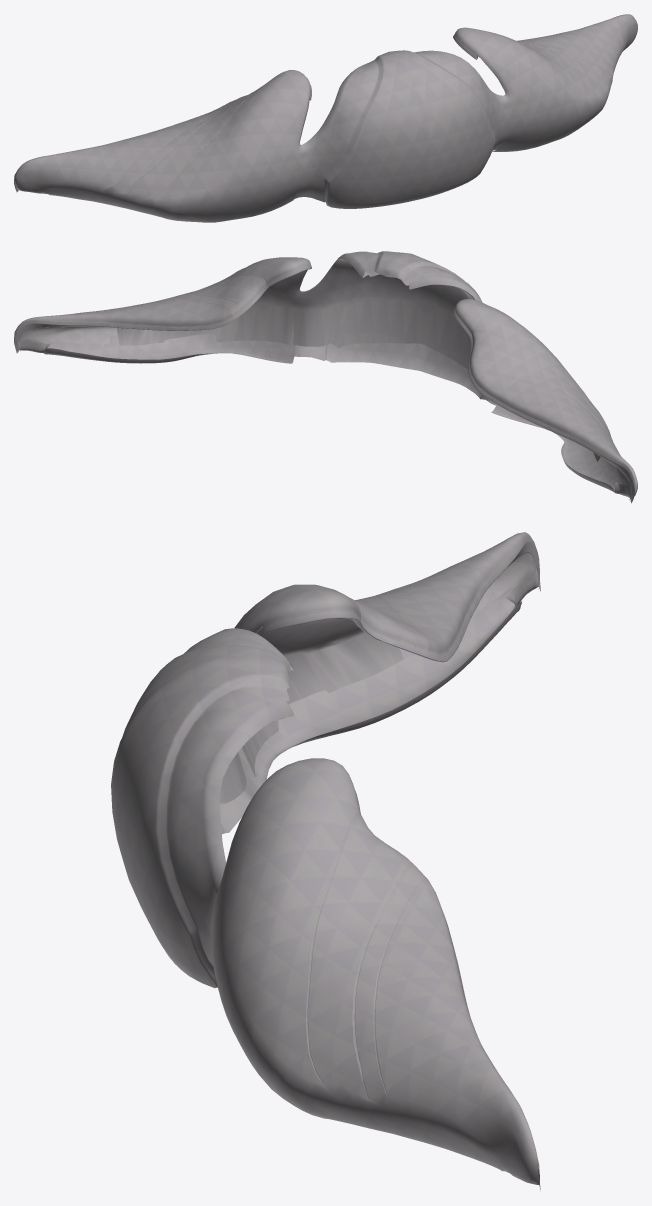
Rendered from pref_sm_beach_winter_techstadium01_lv3.fbx.
The picture shows the model from 3 angles, top to bottom: view 1: azimuth 30°, elevation 25°; view 2: azimuth 150°, elevation 25°; view 3: azimuth 270°, elevation 25°; orthographic projection. The views are drawn at different scales.
Parts seen in each view (by area): view 1: sm_beach_winter_techstadium01_b_lv3, sm_beach_winter_techstadium01_c_lv3, sm_beach_winter_techstadium01_a_lv3; view 2: sm_beach_winter_techstadium01_a_lv3, sm_beach_winter_techstadium01_b_lv3, sm_beach_winter_techstadium01_c_lv3; view 3: sm_beach_winter_techstadium01_a_lv3, sm_beach_winter_techstadium01_b_lv3, sm_beach_winter_techstadium01_c_lv3.
Part boxes in pixels (x1,y1,x2,y2): sm_beach_winter_techstadium01_b_lv3: (294,50,514,208); sm_beach_winter_techstadium01_c_lv3: (14,70,311,222); sm_beach_winter_techstadium01_a_lv3: (453,14,637,151); sm_beach_winter_techstadium01_a_lv3: (14,257,311,363); sm_beach_winter_techstadium01_b_lv3: (293,251,496,405); sm_beach_winter_techstadium01_c_lv3: (453,299,637,503); sm_beach_winter_techstadium01_a_lv3: (212,758,540,1190); sm_beach_winter_techstadium01_b_lv3: (111,628,294,988); sm_beach_winter_techstadium01_c_lv3: (234,532,540,797).
Size of the model in its own units: 157 by 31.81 by 47.01.
